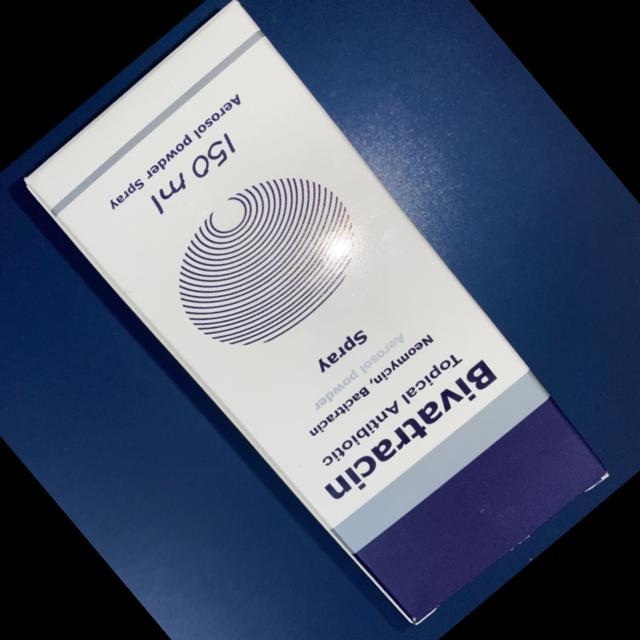Medicine Name: (315, 347, 505, 516)
